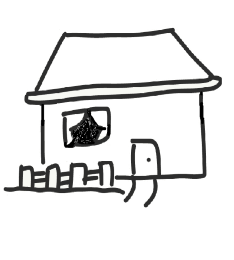closed_window: (56, 106, 116, 152)
door: (126, 133, 166, 184)
roof: (23, 28, 223, 106)
wall: (36, 86, 211, 181)
